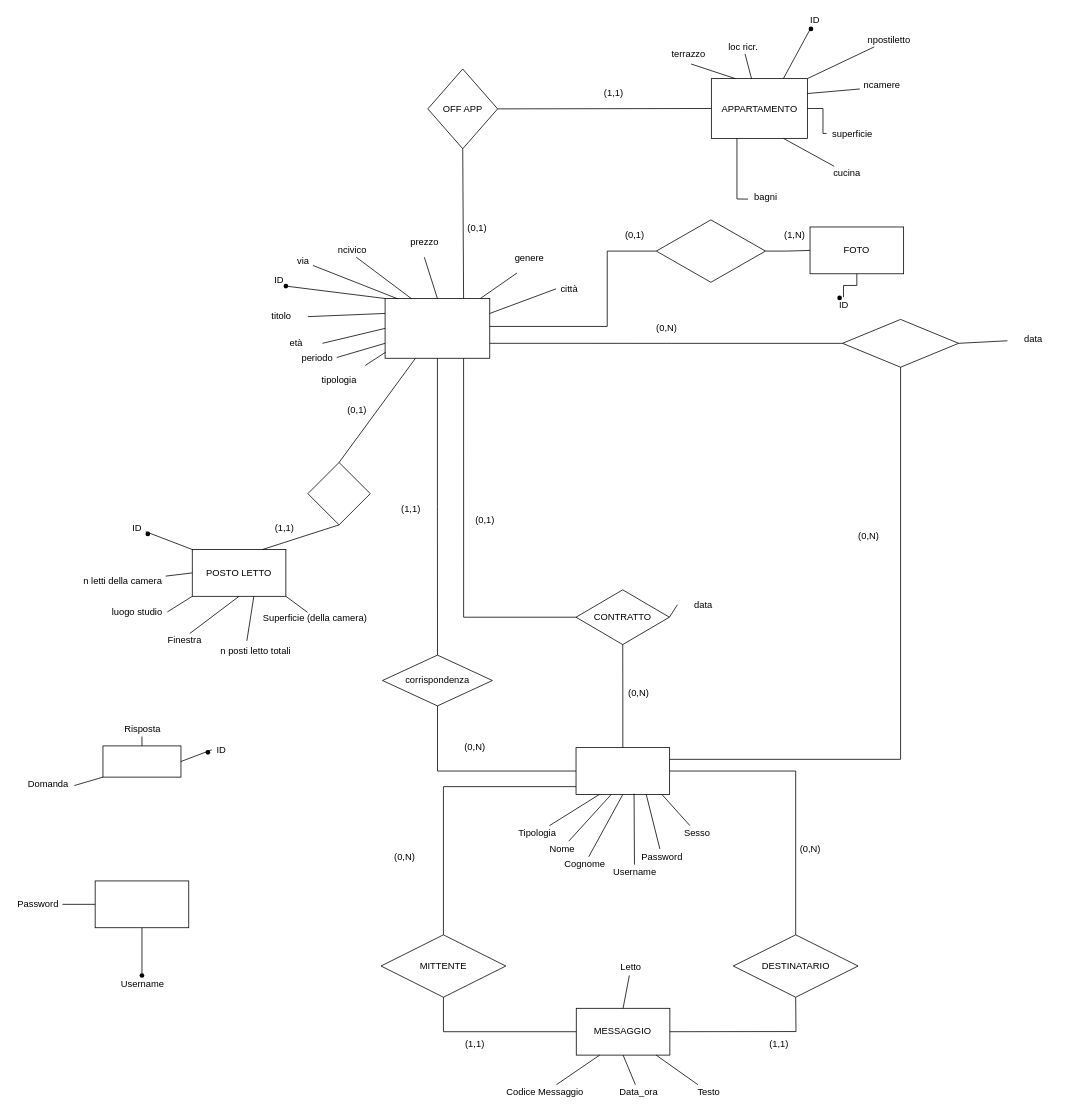
This 1073x1114 diagram has some shape labels left out. The shapes that lost their labels are listed below. From the top down, each one's centre as x and y in pixels, then its label:
At point 710,250: "APPARTENENZA".
At point 437,328: "OFFERTE".
At point 900,343: "opzionamento".
At point 338,493: "OFF POSTO LETTO".
At point 141,761: "FAQ".
At point 622,770: "UTENTE".
At point 141,904: "AMMINISTRATORE".
